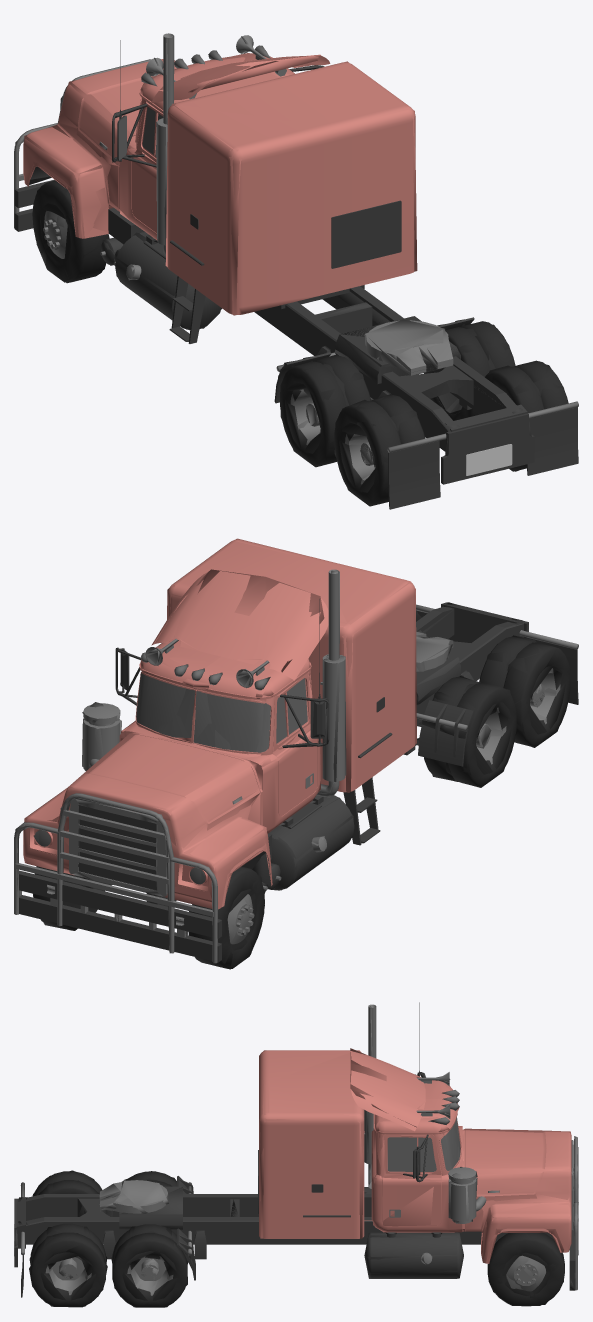
Rendered from Truck.fbx.
3 views of the same model, one above another, from view 1: azimuth 30°, elevation 25°; view 2: azimuth 150°, elevation 25°; view 3: azimuth 270°, elevation 25° (orthographic). The views are drawn at different scales.
Visible parts, largest first — view 1: Truck, Truck Lod; view 2: Truck, Truck Lod; view 3: Truck, Truck Lod.
Boxes of the visible parts, x1,y1,x2,y2 form: Truck: [14, 33, 578, 509]; Truck Lod: [14, 36, 577, 506]; Truck: [14, 539, 578, 969]; Truck Lod: [15, 538, 574, 968]; Truck: [14, 1002, 578, 1307]; Truck Lod: [14, 1006, 578, 1307].
Bounding box in the file's own units: 296 × 417 × 895.
